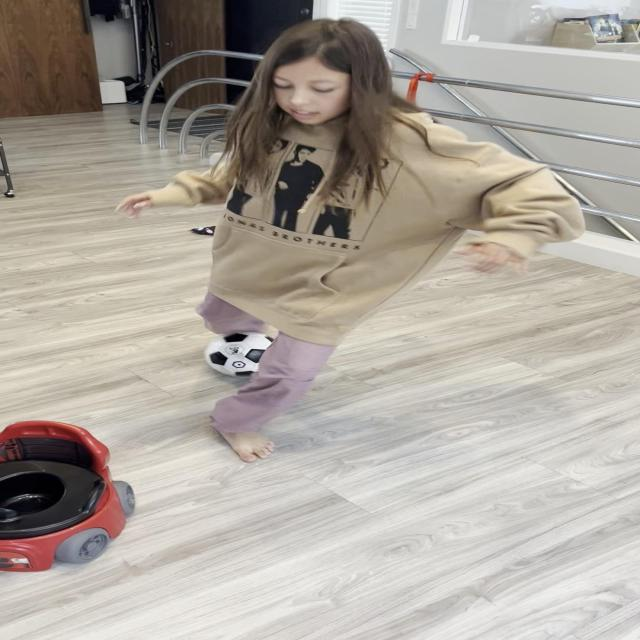Soccer Ball: (205, 331, 286, 378)
